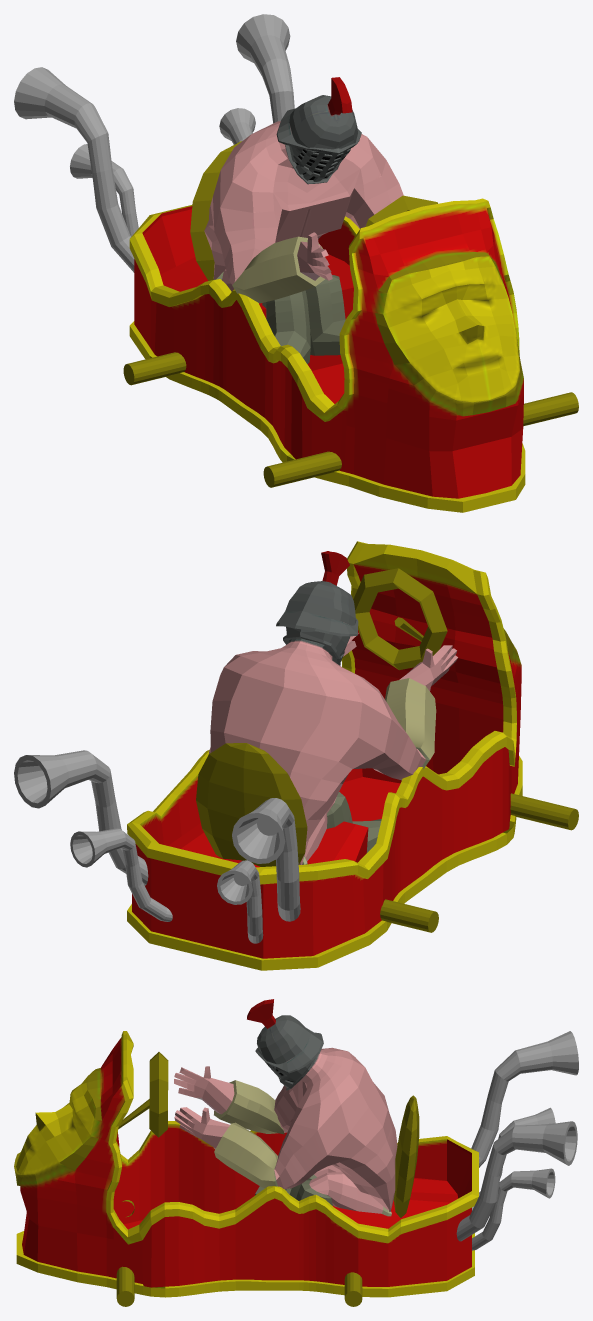
Rendered from GladiLanzamiento_000517.obj.
3 renders of one model, top to bottom at view 1: azimuth 30°, elevation 25°; view 2: azimuth 150°, elevation 25°; view 3: azimuth 270°, elevation 25°, orthographic. The views are drawn at different scales.
Visible parts, largest first — view 1: GladiChasis_GladiChasisH, Gadiador_Gladiador_H.001, GladiTubos_GladiTubosH, GladiVolante_GladiVolanteH; view 2: GladiChasis_GladiChasisH, Gadiador_Gladiador_H.001, GladiVolante_GladiVolanteH, GladiTubos_GladiTubosH; view 3: GladiChasis_GladiChasisH, Gadiador_Gladiador_H.001, GladiTubos_GladiTubosH, GladiVolante_GladiVolanteH.
Boxes of the visible parts, bbox=[...] form: GladiChasis_GladiChasisH: bbox=[129, 198, 525, 512]; Gadiador_Gladiador_H.001: bbox=[204, 77, 403, 363]; GladiTubos_GladiTubosH: bbox=[14, 14, 294, 272]; GladiVolante_GladiVolanteH: bbox=[123, 141, 578, 487]; GladiChasis_GladiChasisH: bbox=[127, 541, 522, 970]; Gadiador_Gladiador_H.001: bbox=[209, 551, 457, 864]; GladiVolante_GladiVolanteH: bbox=[196, 568, 578, 932]; GladiTubos_GladiTubosH: bbox=[14, 750, 300, 943]; GladiChasis_GladiChasisH: bbox=[14, 1031, 478, 1297]; Gadiador_Gladiador_H.001: bbox=[174, 999, 397, 1216]; GladiTubos_GladiTubosH: bbox=[456, 1031, 578, 1250]; GladiVolante_GladiVolanteH: bbox=[116, 1052, 419, 1306].
Size of the model in its own units: 5.46 by 5.36 by 10.78.
